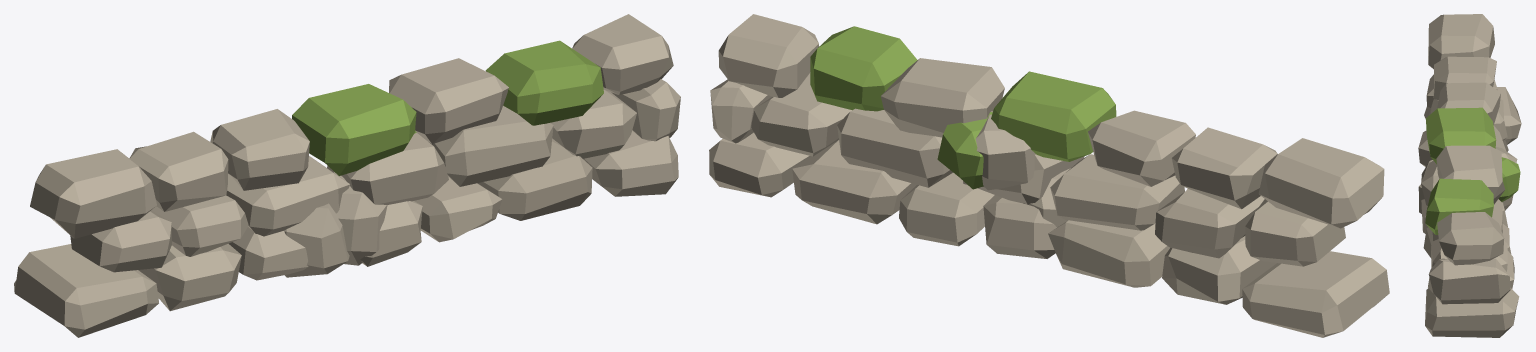
Rendered from wall.glb.
3 renders of one model, left to right at view 1: azimuth 30°, elevation 25°; view 2: azimuth 150°, elevation 25°; view 3: azimuth 270°, elevation 25°, orthographic. The views are drawn at different scales.
Parts seen in each view (by area): view 1: wall_variant_0, wall_variant_1; view 2: wall_variant_0, wall_variant_1; view 3: wall_variant_0, wall_variant_1.
Part boxes in pixels (x1,y1,x2,y2): wall_variant_0: [14, 14, 680, 337]; wall_variant_1: [284, 130, 416, 277]; wall_variant_0: [709, 14, 1389, 337]; wall_variant_1: [937, 111, 1084, 227]; wall_variant_0: [1418, 14, 1521, 337]; wall_variant_1: [1418, 147, 1520, 213].
Bounding box in the file's own units: 0.3007 × 0.0704 × 0.0579.
